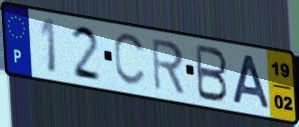1: (39, 16, 57, 76)
2: (69, 24, 102, 84)
A: (230, 53, 272, 111)
B: (195, 42, 230, 105)
C: (112, 32, 148, 89)
R: (149, 37, 187, 97)
